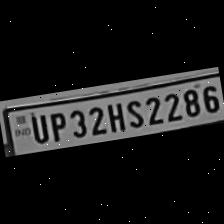2: (84, 102, 108, 137), (141, 92, 165, 126), (158, 88, 182, 122)
3: (65, 105, 89, 140)
6: (198, 80, 222, 114)
8: (178, 84, 202, 118)
H: (103, 98, 127, 134)
P: (44, 108, 69, 144)
S: (122, 96, 146, 130)
U: (26, 111, 49, 144)
